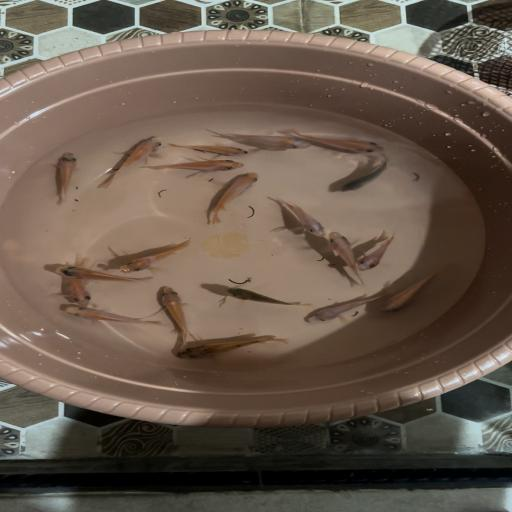nila: (94, 134, 165, 191), (301, 287, 402, 326), (200, 172, 262, 228), (376, 268, 446, 316), (172, 333, 292, 359), (116, 238, 192, 276), (154, 284, 196, 351), (290, 130, 392, 156), (55, 303, 170, 326), (324, 228, 368, 288), (273, 197, 329, 239), (336, 153, 392, 194), (213, 130, 320, 150), (222, 286, 315, 308), (58, 256, 95, 310), (50, 265, 155, 283), (355, 230, 399, 272), (50, 150, 81, 204), (137, 159, 251, 173), (168, 140, 255, 156)
